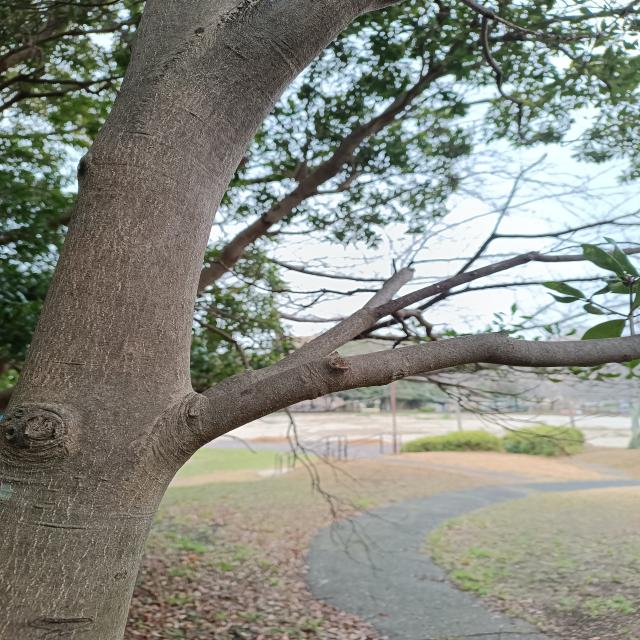Twig: (210, 243, 637, 389), (186, 334, 640, 449)
